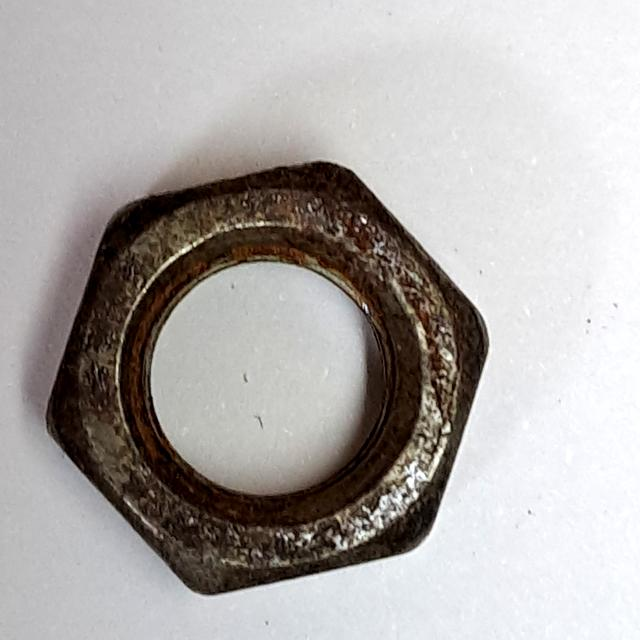Rust: (31, 147, 505, 610)
